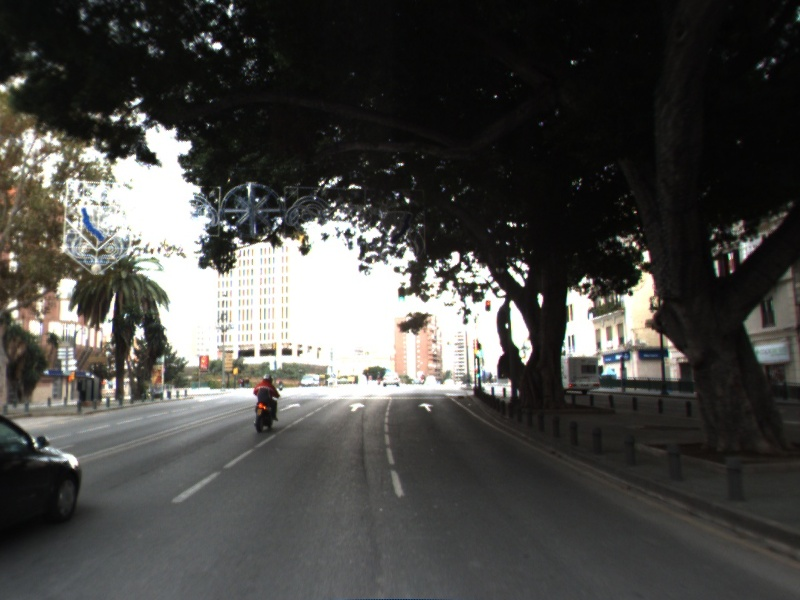STRAIGHT: (277, 401, 303, 413), (416, 400, 437, 414), (347, 400, 368, 413)
